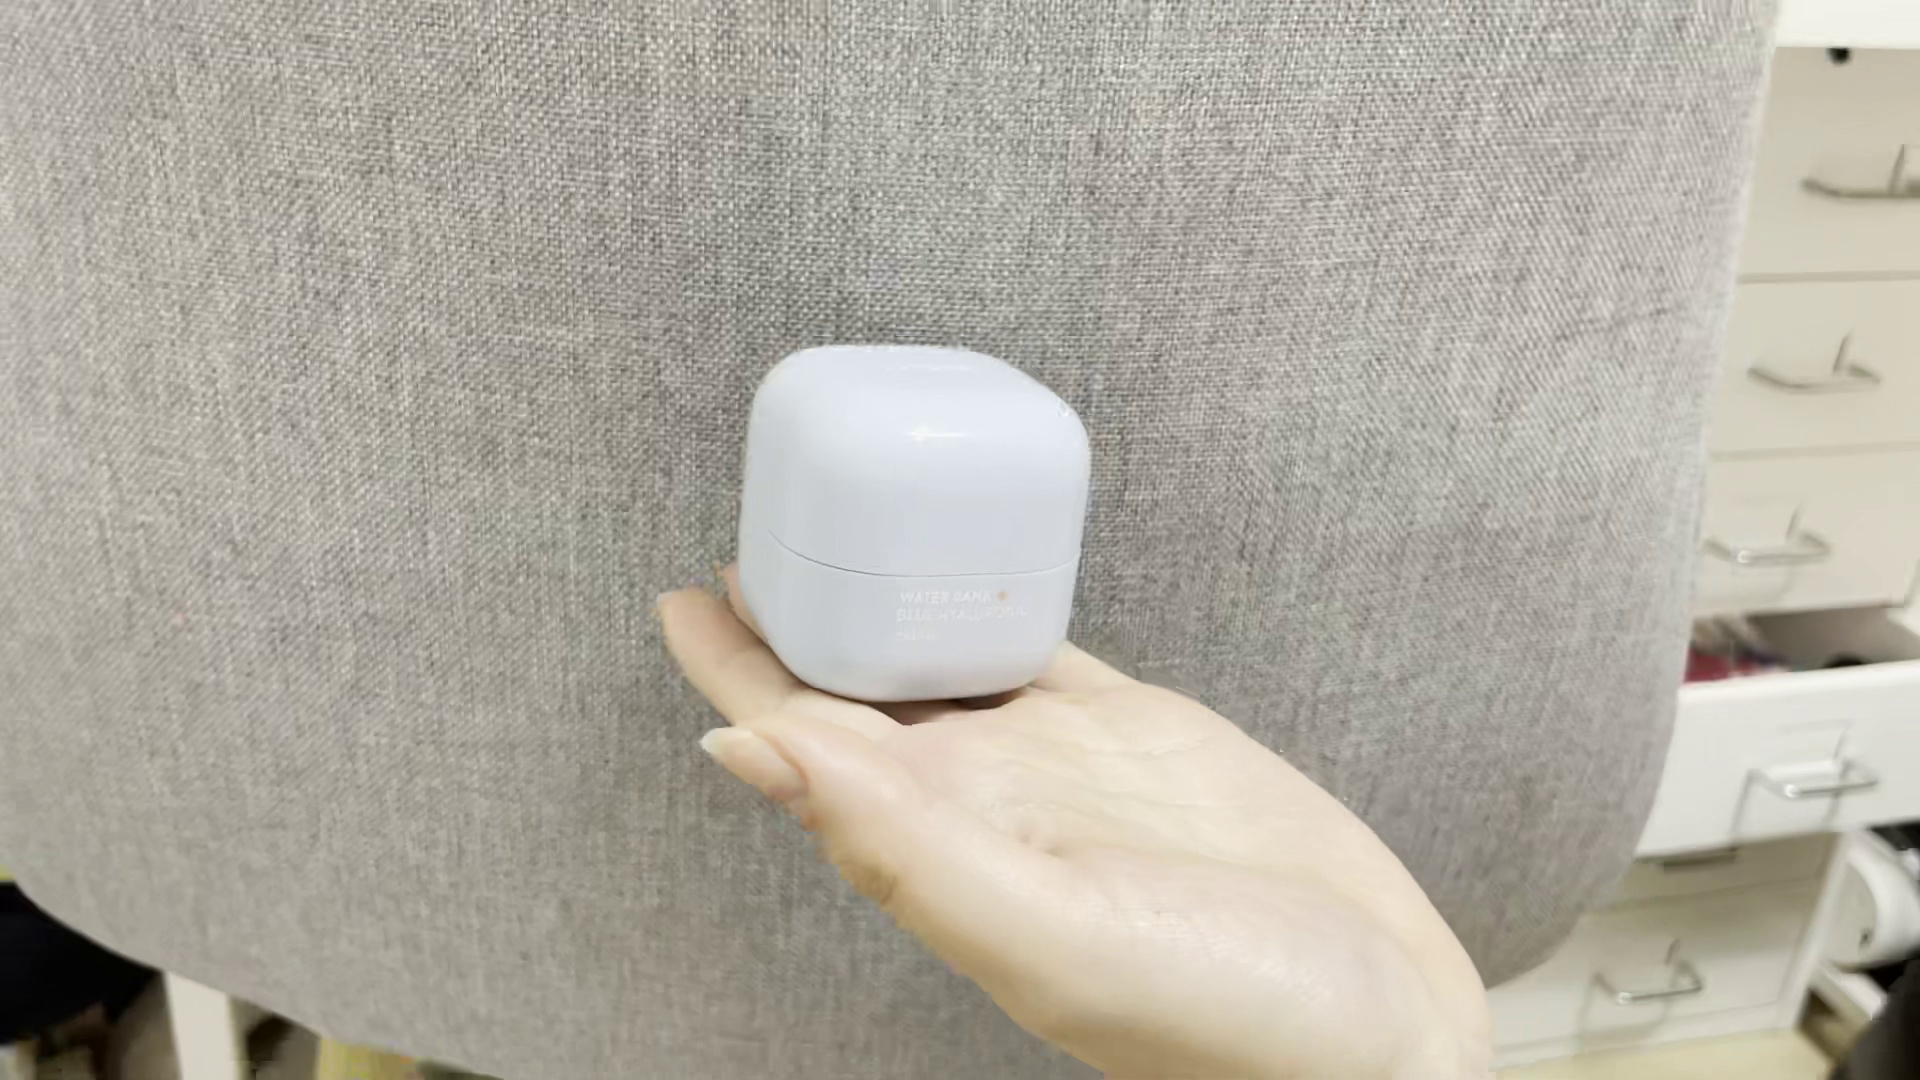cream: (736, 344, 1083, 702)
